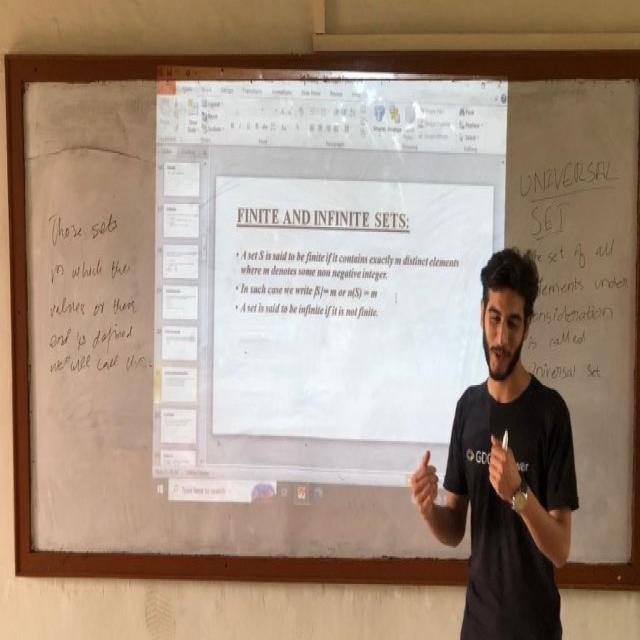Instructor: (456, 222, 580, 640)
Slide: (152, 69, 511, 531)
White-board: (9, 61, 640, 580)
